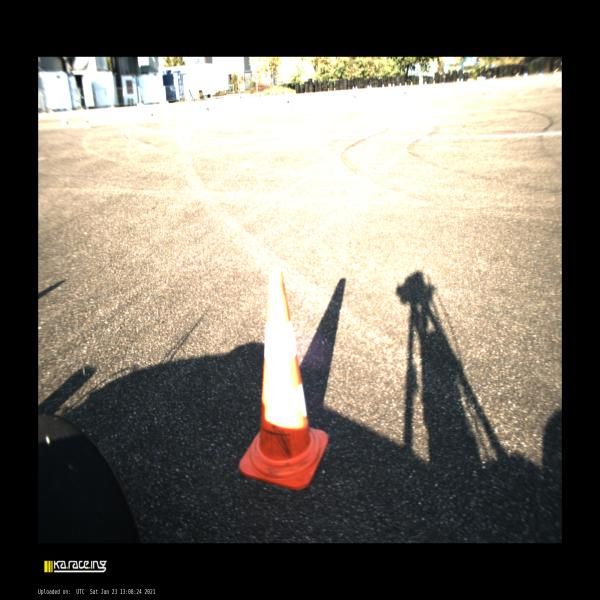blue_cone: (64, 116, 69, 124), (392, 85, 396, 94), (212, 103, 214, 109)
large_orange_cone: (239, 271, 327, 489)
yellow_cone: (83, 116, 91, 129), (205, 104, 210, 114), (286, 97, 290, 107), (150, 111, 154, 119), (403, 89, 407, 97), (352, 93, 356, 100)
